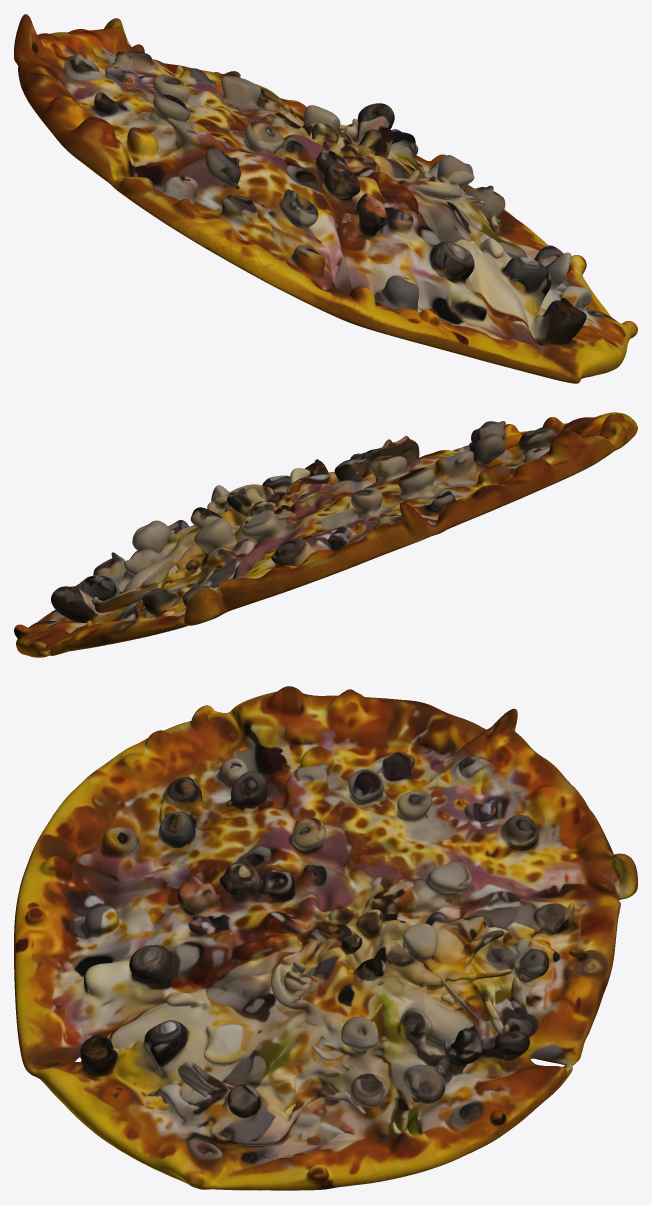
File: pizza.glb
3 renders of one model, top to bottom at view 1: azimuth 30°, elevation 25°; view 2: azimuth 150°, elevation 25°; view 3: azimuth 270°, elevation 25°, orthographic. The views are drawn at different scales.
Visible parts, largest first — view 1: tripo_node_d6576e03-808a-400b-87d5-168203f297f7; view 2: tripo_node_d6576e03-808a-400b-87d5-168203f297f7; view 3: tripo_node_d6576e03-808a-400b-87d5-168203f297f7.
Boxes of the visible parts, x1=… form: tripo_node_d6576e03-808a-400b-87d5-168203f297f7: x1=14, y1=14, x2=637, y2=383; tripo_node_d6576e03-808a-400b-87d5-168203f297f7: x1=14, y1=412, x2=637, y2=657; tripo_node_d6576e03-808a-400b-87d5-168203f297f7: x1=14, y1=686, x2=637, y2=1190.
Size of the model in its own units: 0.9094 by 0.4992 by 0.9913.
1 material, 1 textured.
